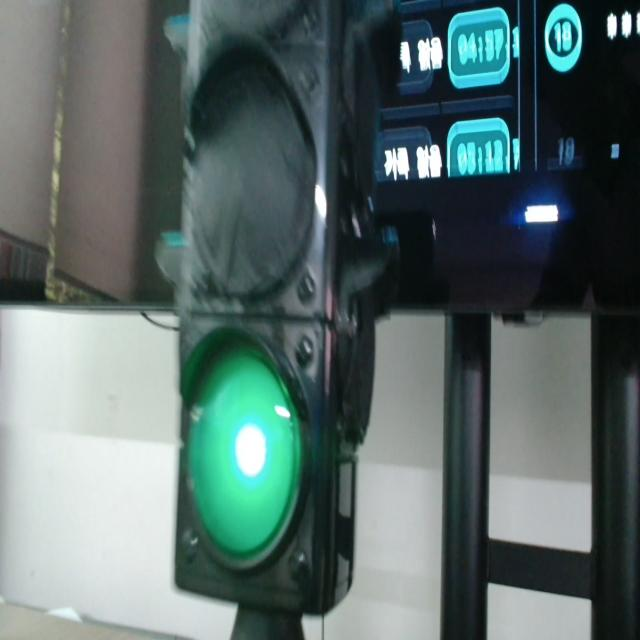green_light: (189, 347, 301, 559)
